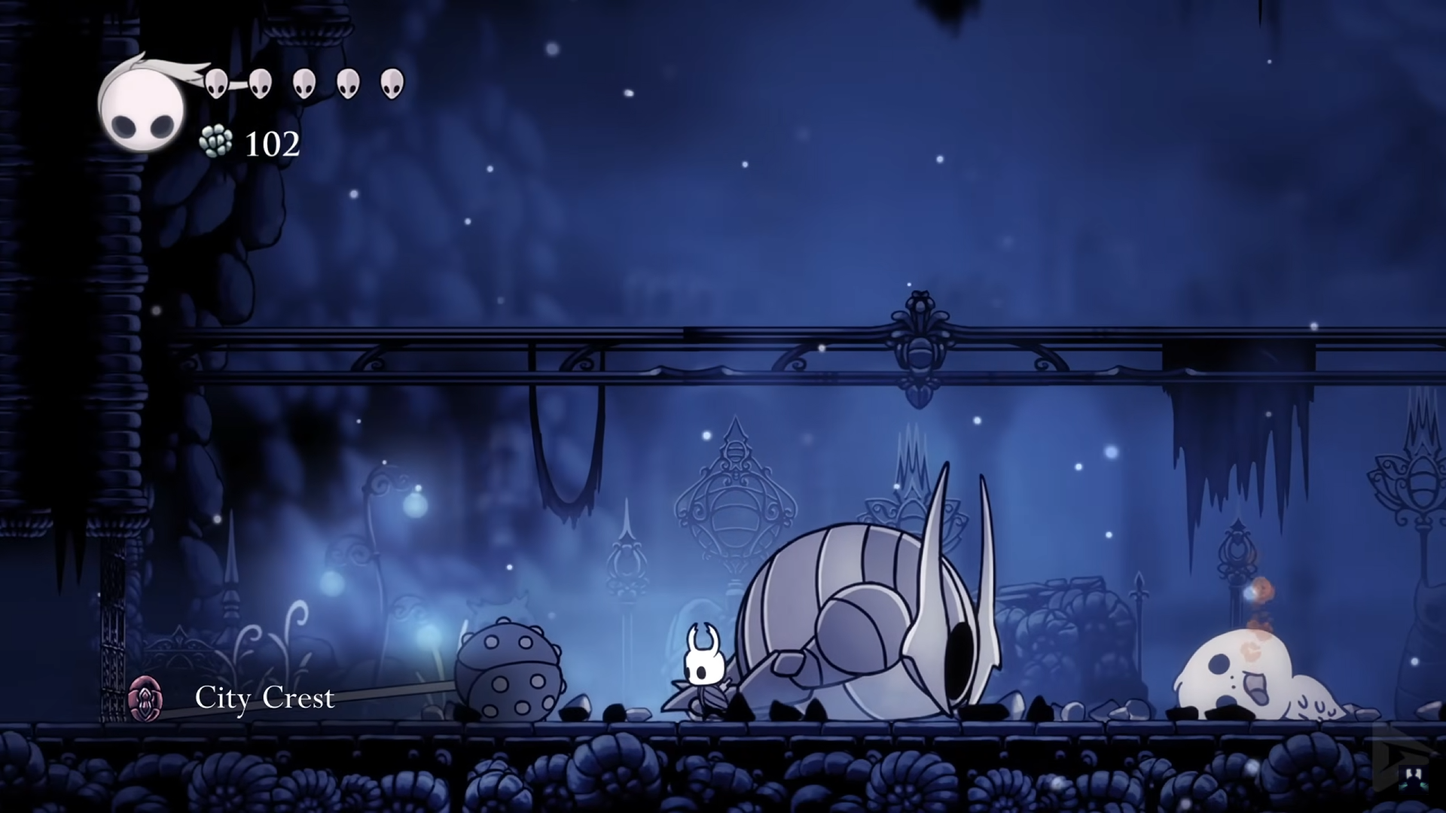HK: (678, 616, 737, 728)
